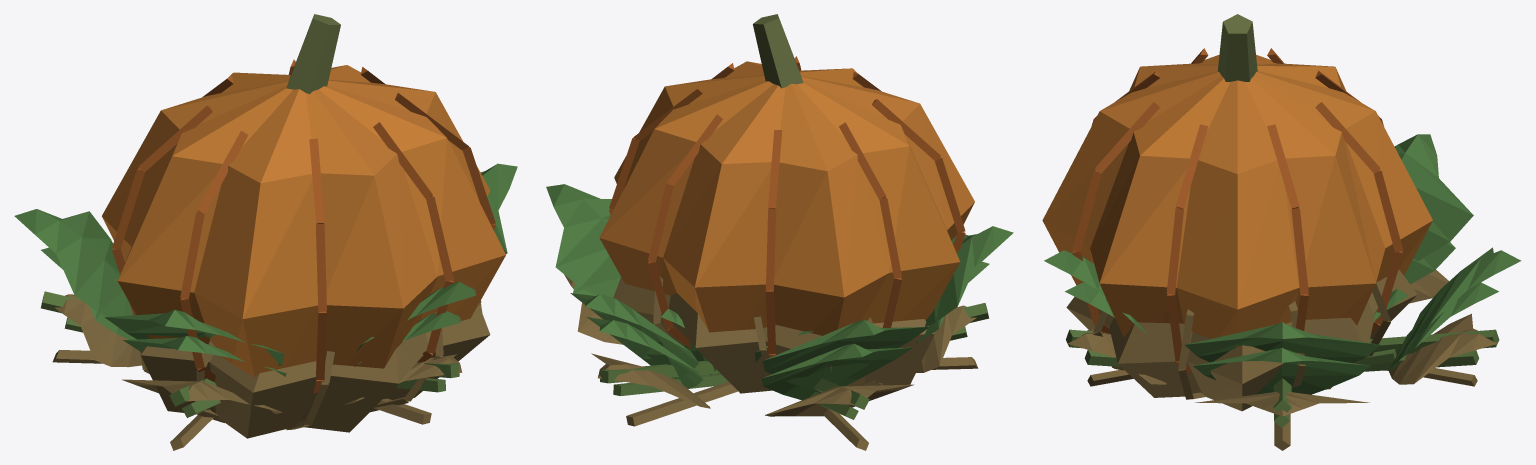
Rendered from autumn_pumpkin.glb.
The picture shows the model from 3 angles, left to right: view 1: azimuth 30°, elevation 25°; view 2: azimuth 150°, elevation 25°; view 3: azimuth 270°, elevation 25°; orthographic projection. The views are drawn at different scales.
Parts seen in each view (by area): view 1: stage3, dead, stage2; view 2: stage3, dead, stage2, stage1; view 3: stage3, dead, stage2, stage1.
Boxes of the visible parts, bbox=[...] form: stage3: bbox=[14, 14, 517, 406]; dead: bbox=[52, 294, 490, 450]; stage2: bbox=[41, 247, 460, 417]; stage3: bbox=[546, 14, 1013, 409]; dead: bbox=[564, 274, 978, 450]; stage2: bbox=[573, 261, 989, 419]; stage1: bbox=[660, 308, 813, 375]; stage3: bbox=[1042, 14, 1521, 416]; dead: bbox=[1066, 270, 1497, 450]; stage2: bbox=[1065, 242, 1498, 427]; stage1: bbox=[1357, 289, 1407, 365].
Bounding box in the file's own units: 0.6485 × 0.5389 × 0.6408.
